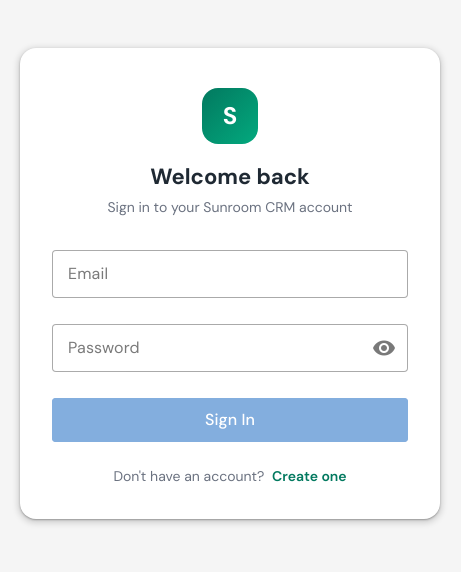
it: LoginPage › falls back to a generic error message when the response has no message
Type "ada@example.com" into the field labelled "Email". click: coordinates (230, 274)
box: [52, 250, 408, 298]
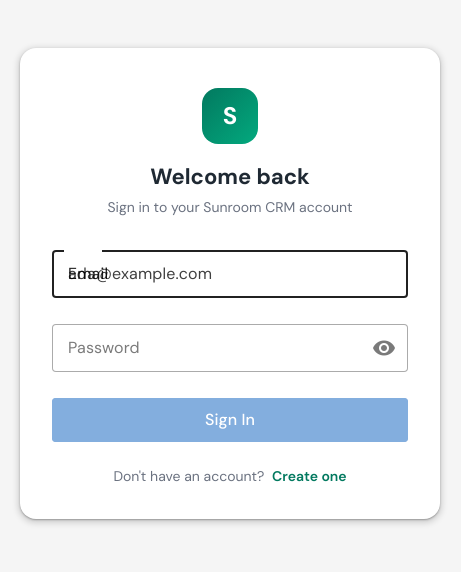
Type "secret123" into the password field labelled "Password". click: coordinates (212, 348)
box: [52, 324, 372, 372]
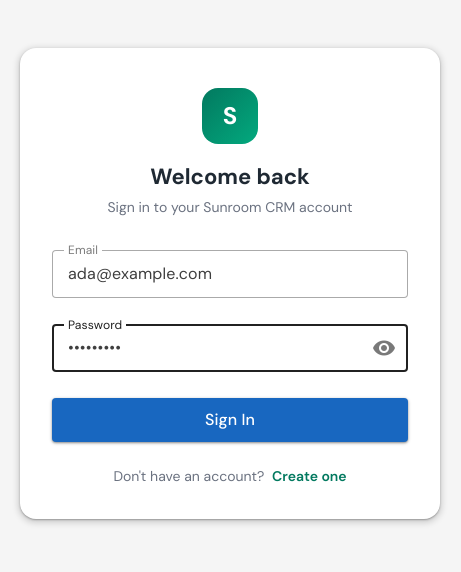
Submit the form, box [52, 250, 408, 442]
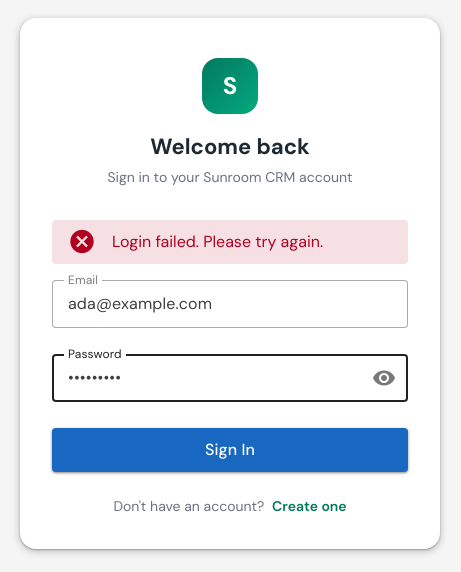
Now the text "Login failed. Please try again." is shown, box [112, 230, 323, 252]
